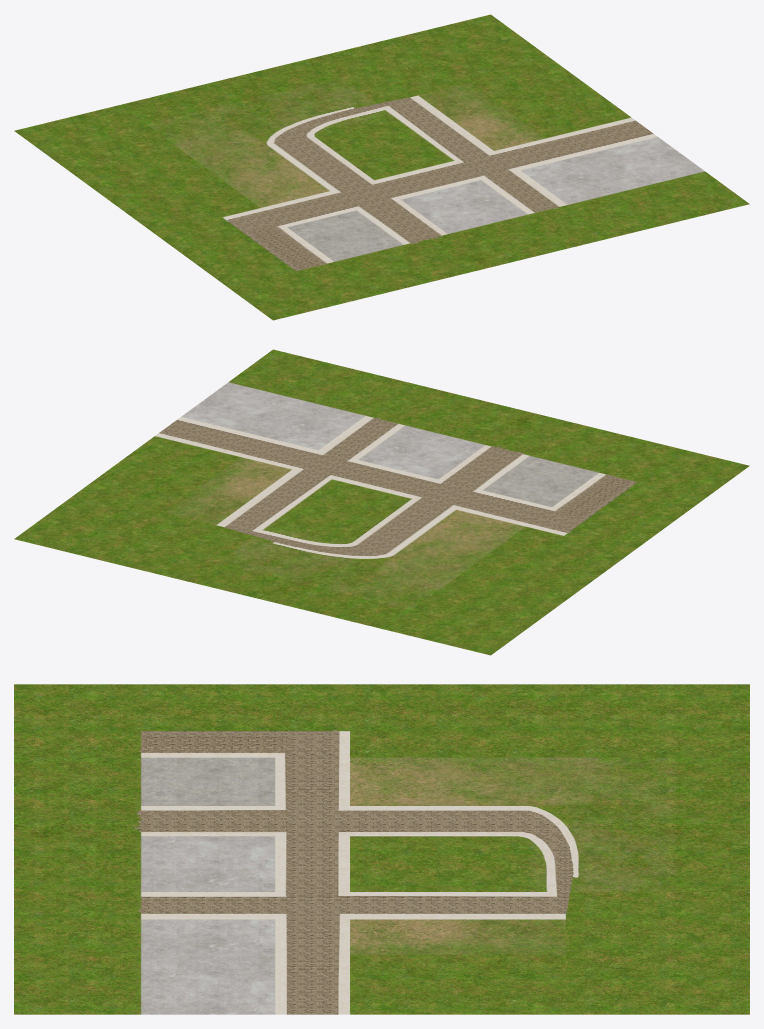
File: Ground_Tex.fbx
3 renders of one model, top to bottom at view 1: azimuth 30°, elevation 25°; view 2: azimuth 150°, elevation 25°; view 3: azimuth 270°, elevation 25°, orthographic. The views are drawn at different scales.
Visible parts, largest first — view 1: polySurface1052; view 2: polySurface1052; view 3: polySurface1052.
Boxes of the visible parts, box(x1,y1,x2,y2) form: polySurface1052: box(14, 14, 749, 320); polySurface1052: box(14, 349, 749, 655); polySurface1052: box(14, 684, 749, 1014).
Size of the model in its own units: 280 by 0 by 264.
1 material, 1 textured.
